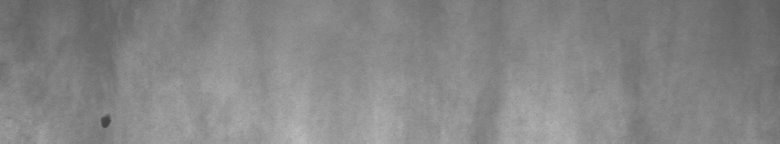fi: (97, 108, 116, 135)
